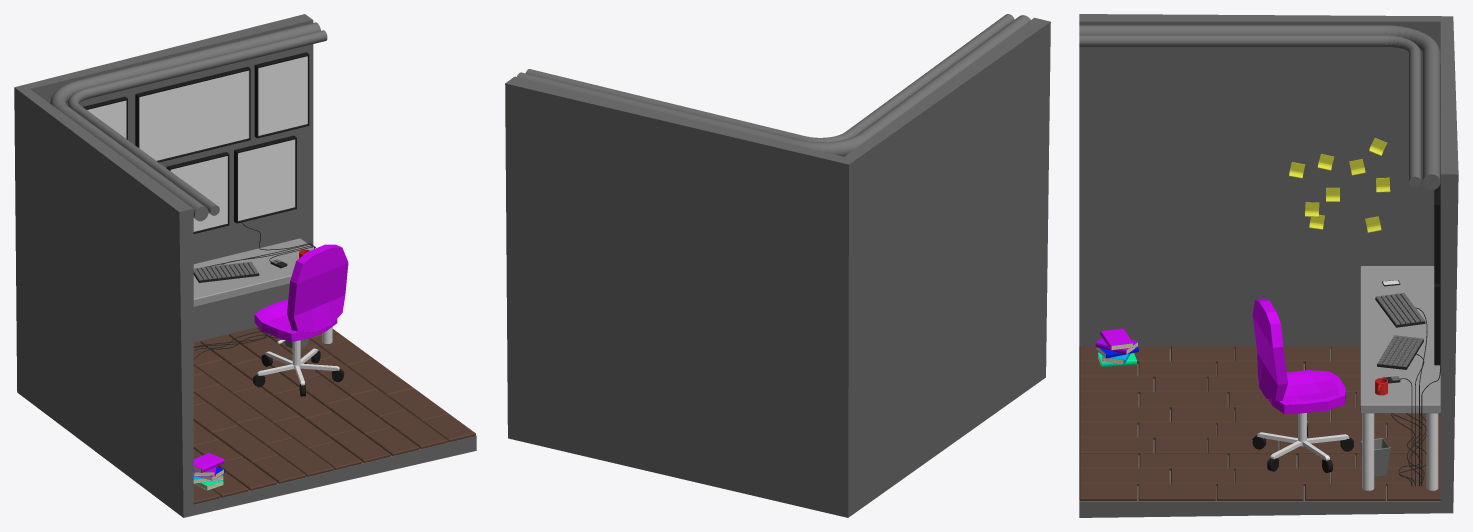
The model's file is IsometricHackerRoom.fbx.
The picture shows the model from 3 angles, left to right: view 1: azimuth 30°, elevation 25°; view 2: azimuth 150°, elevation 25°; view 3: azimuth 270°, elevation 25°; orthographic projection. The views are drawn at different scales.
Visible parts, largest first — view 1: Plane; view 2: Plane; view 3: Plane.
Boxes of the visible parts, <box> form: Plane: <box>14,14,476,517</box>; Plane: <box>505,14,1050,517</box>; Plane: <box>1079,14,1458,517</box>.
Bounding box in the file's own units: 210 × 210 × 210.
